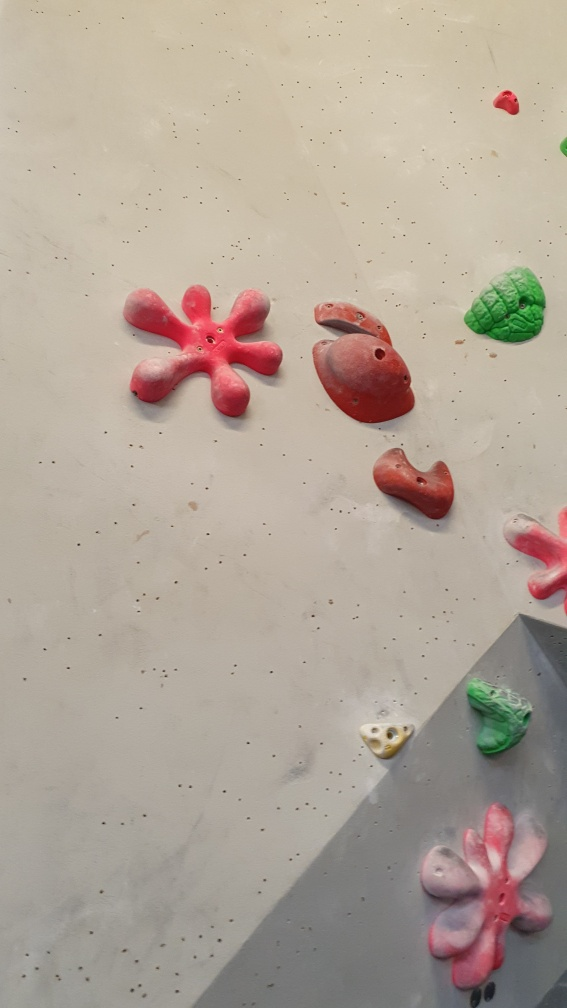Octopus Pinch: (418, 804, 558, 993), (119, 278, 285, 428), (501, 496, 567, 613)
